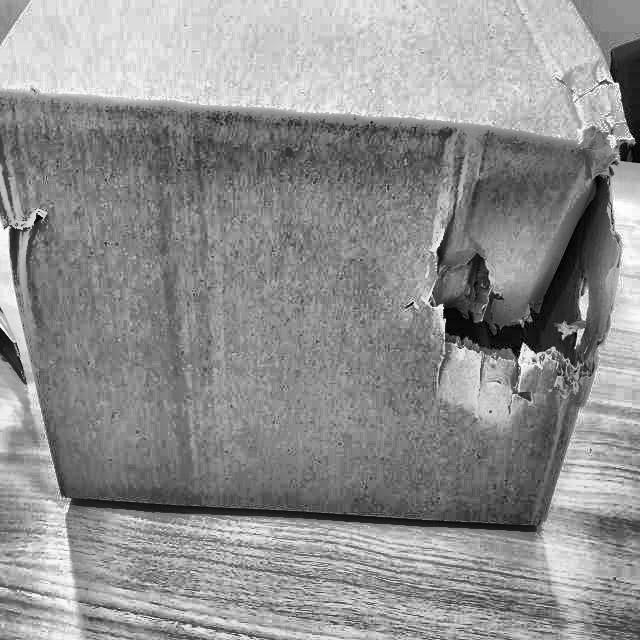box: (0, 0, 639, 546)
hole: (430, 100, 622, 412)
